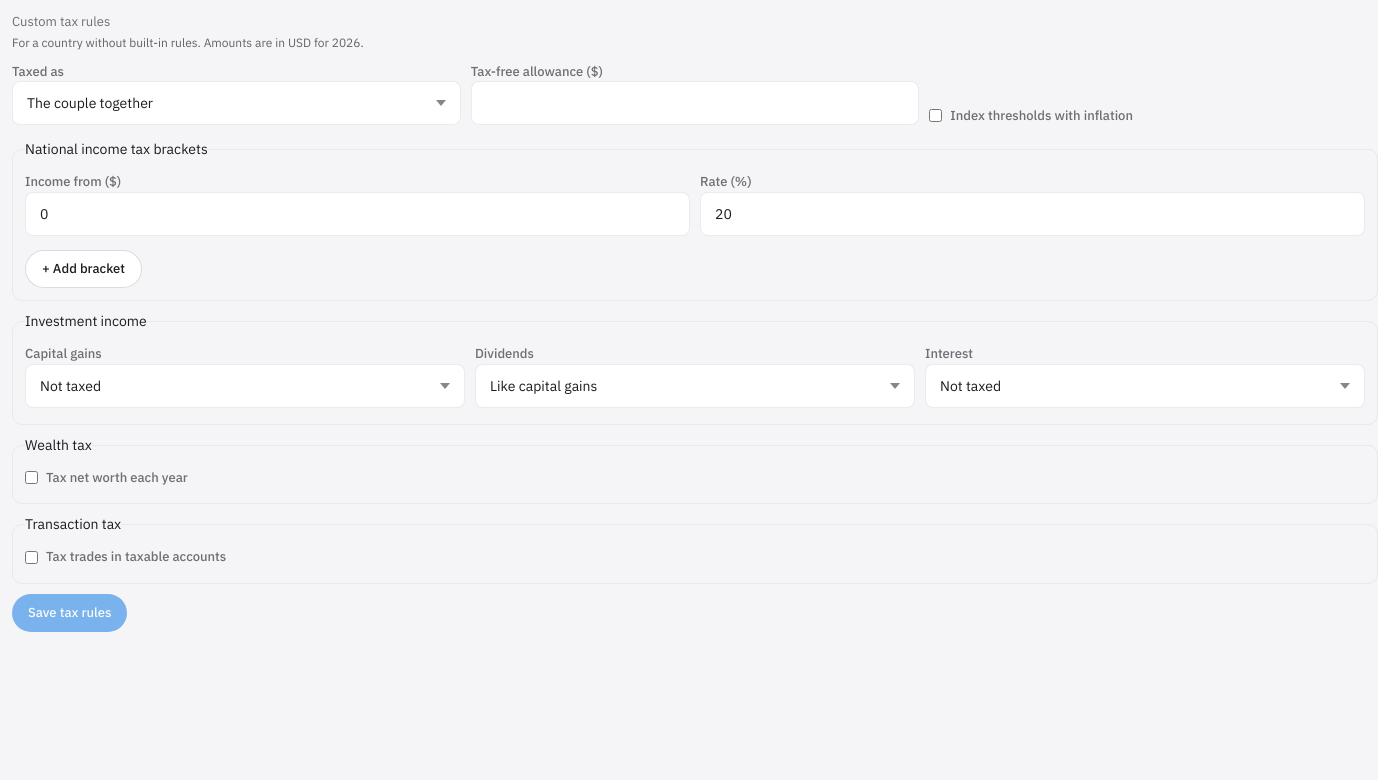
Scenario: custom regime editor › reopens a saved document and shows the server's rejection without losing the draft
Expected: the dropdown labelled "Taxed as" shows "The couple together", left=12, top=81, right=461, bottom=125
Expected: the checkbox labelled "Index thresholds with inflation" is not checked, left=929, top=109, right=942, bottom=122
Replace the text in the number field labelled "Rate (%)" with "25" at {"x": 1032, "y": 214}, box left=700, top=192, right=1365, bottom=236
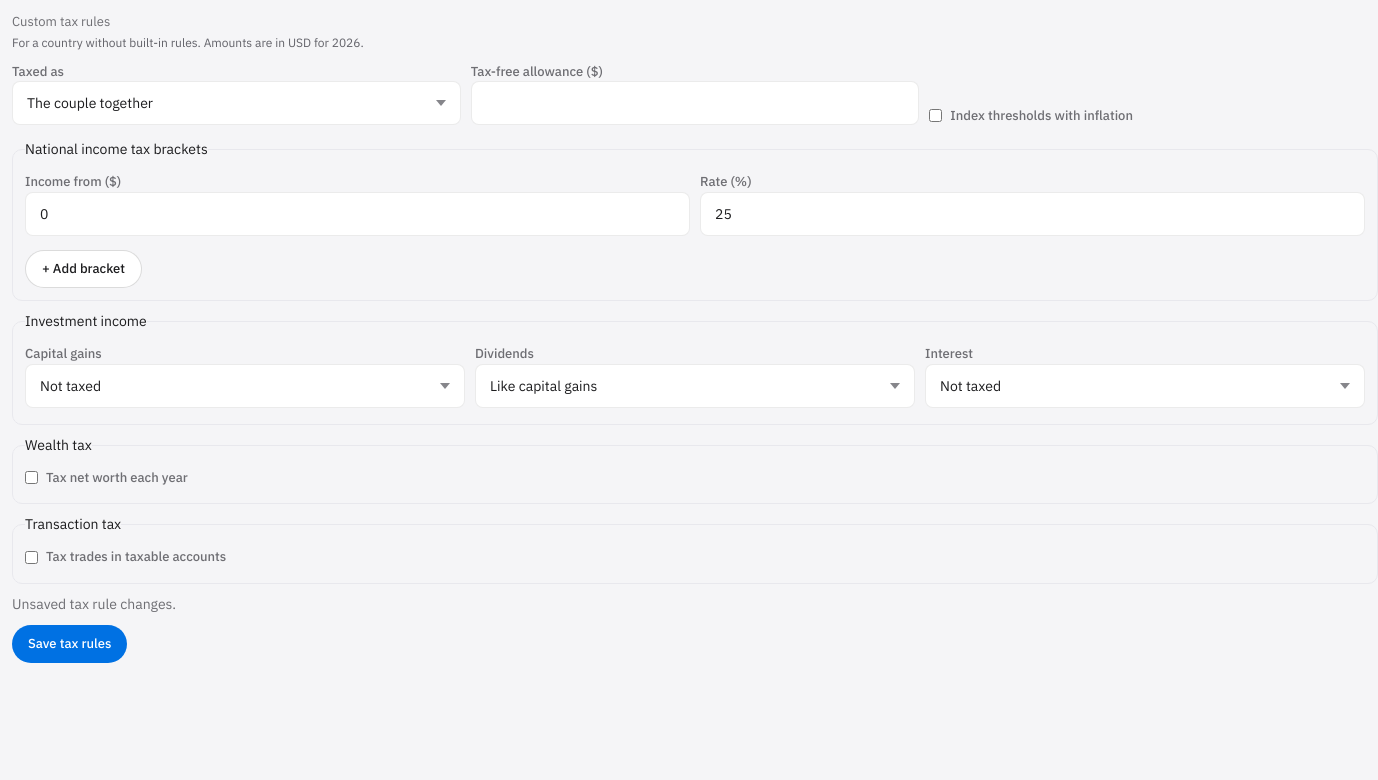
Click the button "Save tax rules" at {"x": 70, "y": 644}, box left=12, top=625, right=127, bottom=663
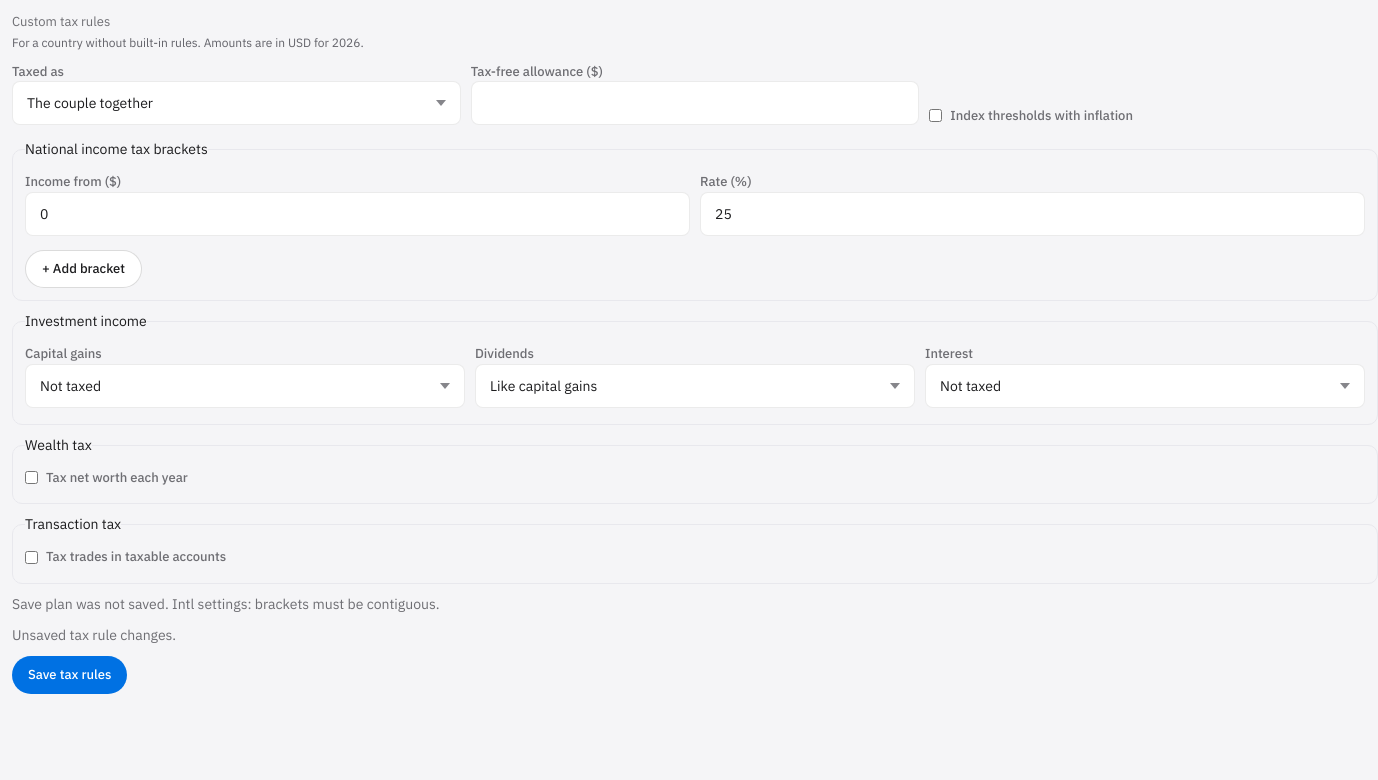
Now the text "Save plan was not saved. Intl settings: brackets must be contiguous." is shown, box left=12, top=595, right=440, bottom=613
